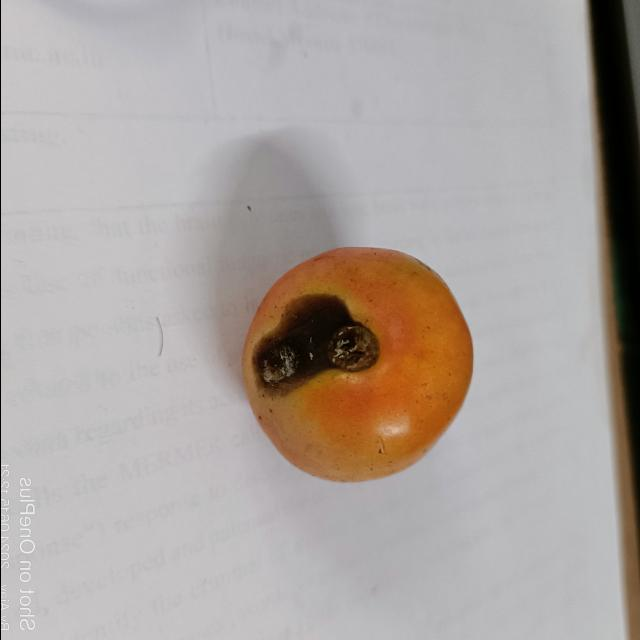Anthrocnose: (250, 296, 382, 396)
